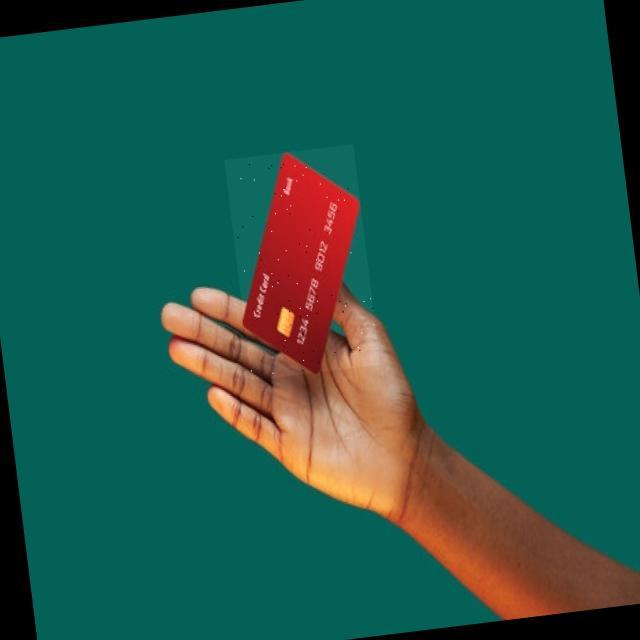payment_card: (239, 150, 360, 374)
